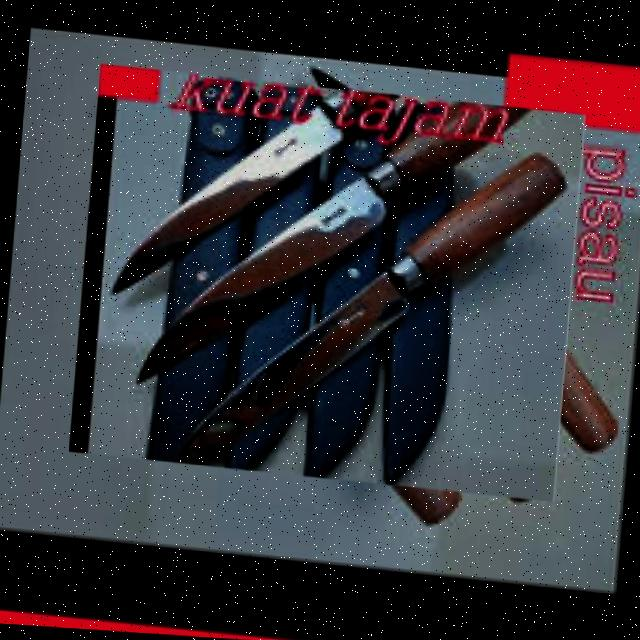knife: (178, 127, 570, 491), (134, 81, 530, 409), (108, 73, 403, 313)
